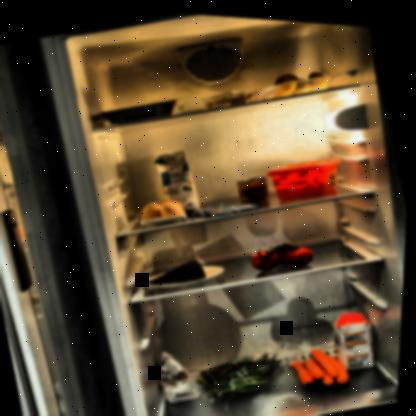butter: (265, 145, 348, 205)
carrot: (289, 334, 353, 393)
cheese: (147, 250, 213, 291)
chocolate: (193, 187, 266, 221)
corn: (237, 170, 273, 204)
eggs: (138, 191, 187, 226)
green_beans: (194, 341, 293, 406)
milk: (151, 145, 202, 218)
potato: (264, 58, 330, 99)
shrimp: (201, 78, 270, 112)
tomato: (250, 229, 319, 274)
